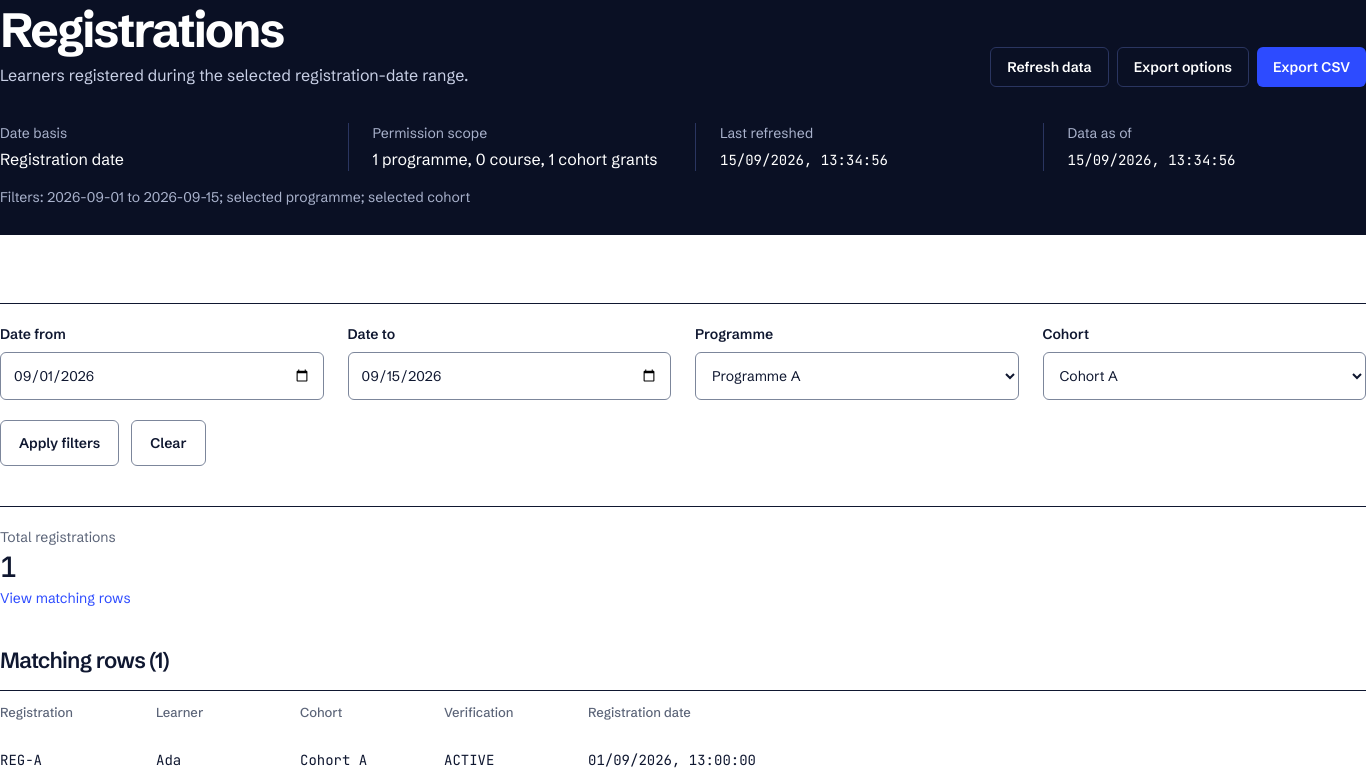
Scenario: ReportDashboard › retains sensitive selections and reason on failed queue requests
Step 1. Click the button "Export options" → (1183, 67), box [1117, 47, 1249, 87]
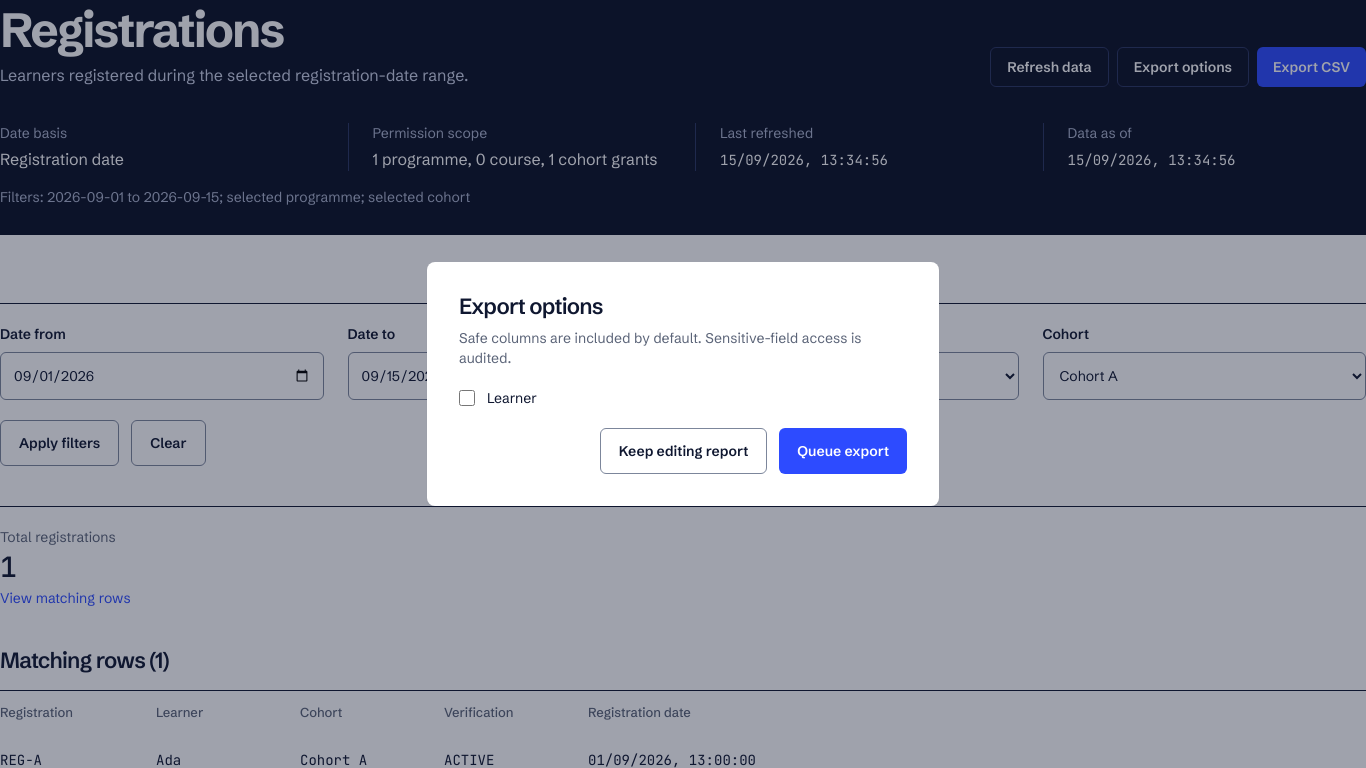
Step 2. Click the checkbox labelled "Learner" → (467, 398), box [459, 390, 475, 406]
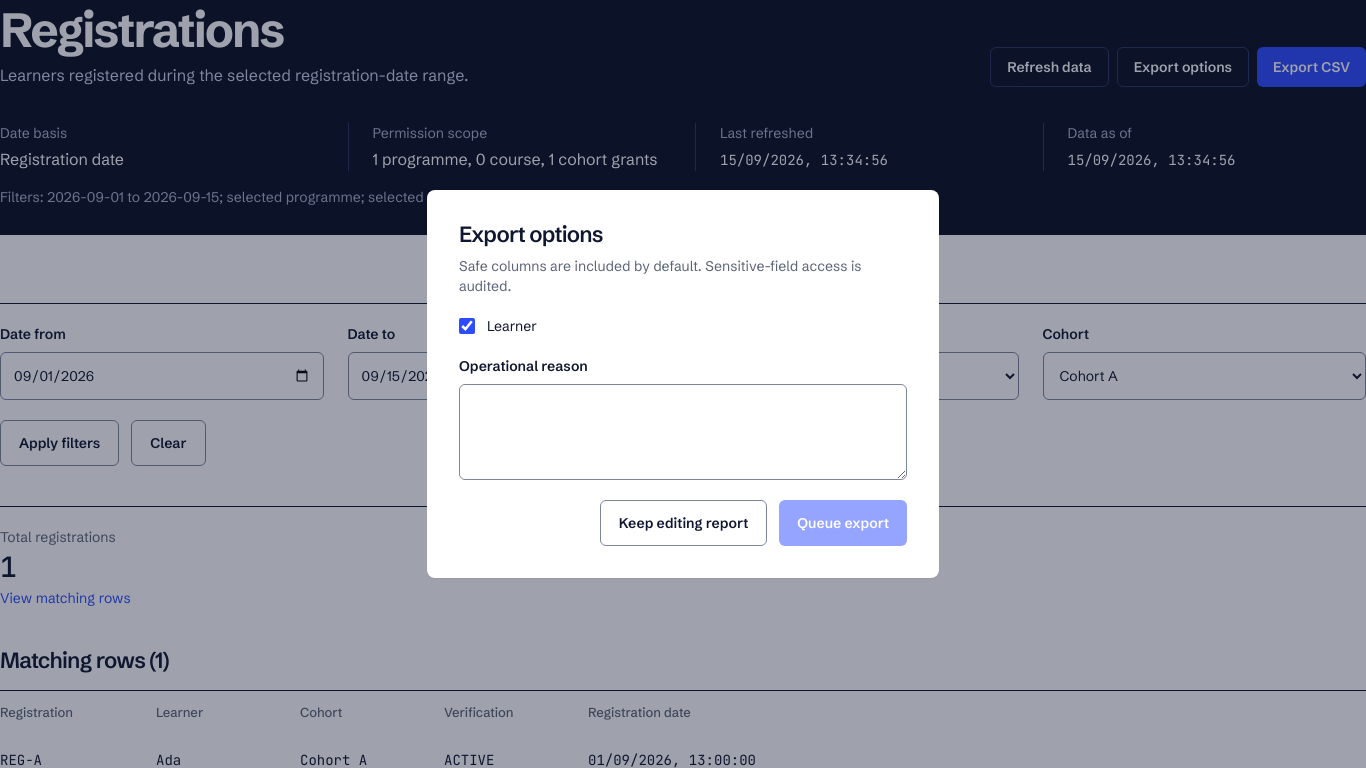
Step 3. Type "Case review" into the text box labelled "Operational reason" → (683, 432), box [459, 384, 907, 480]
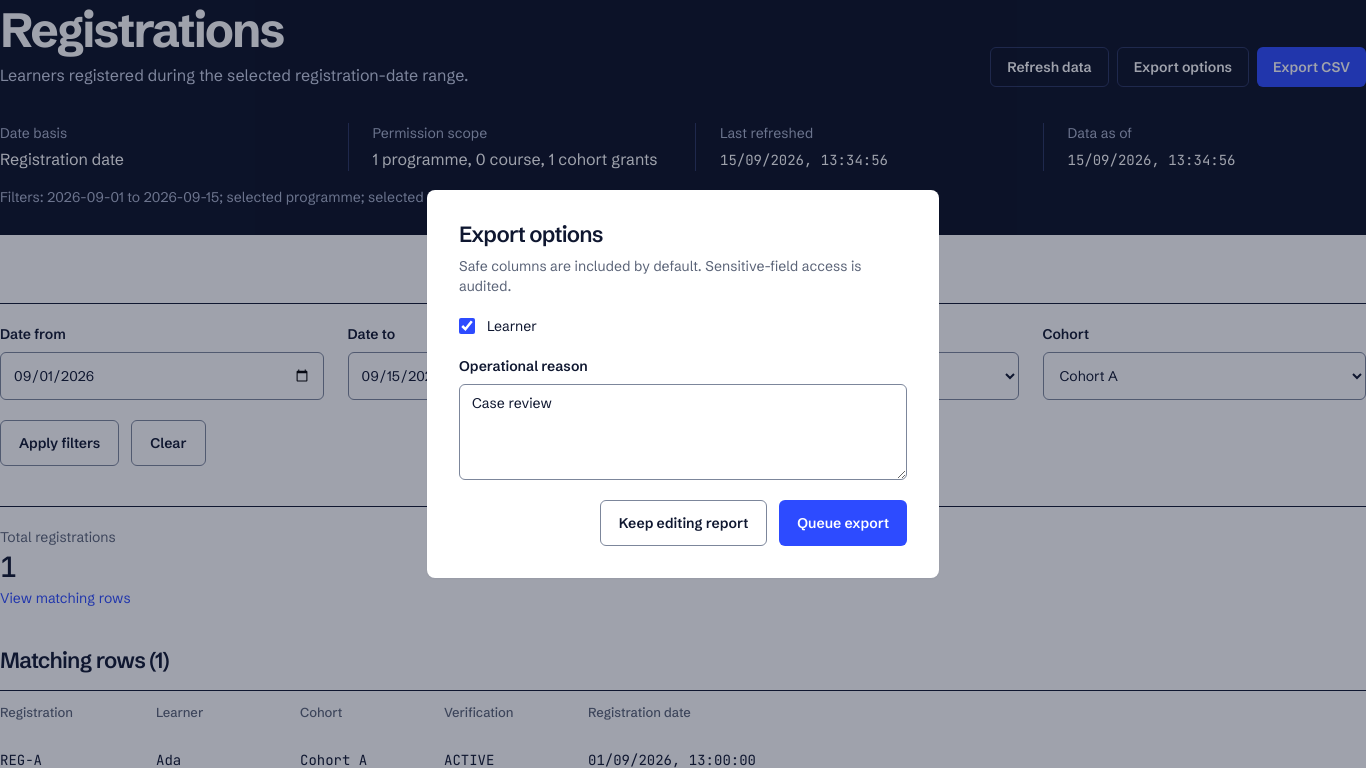
Step 4. Click the button "Queue export" → (843, 523), box [779, 500, 907, 546]
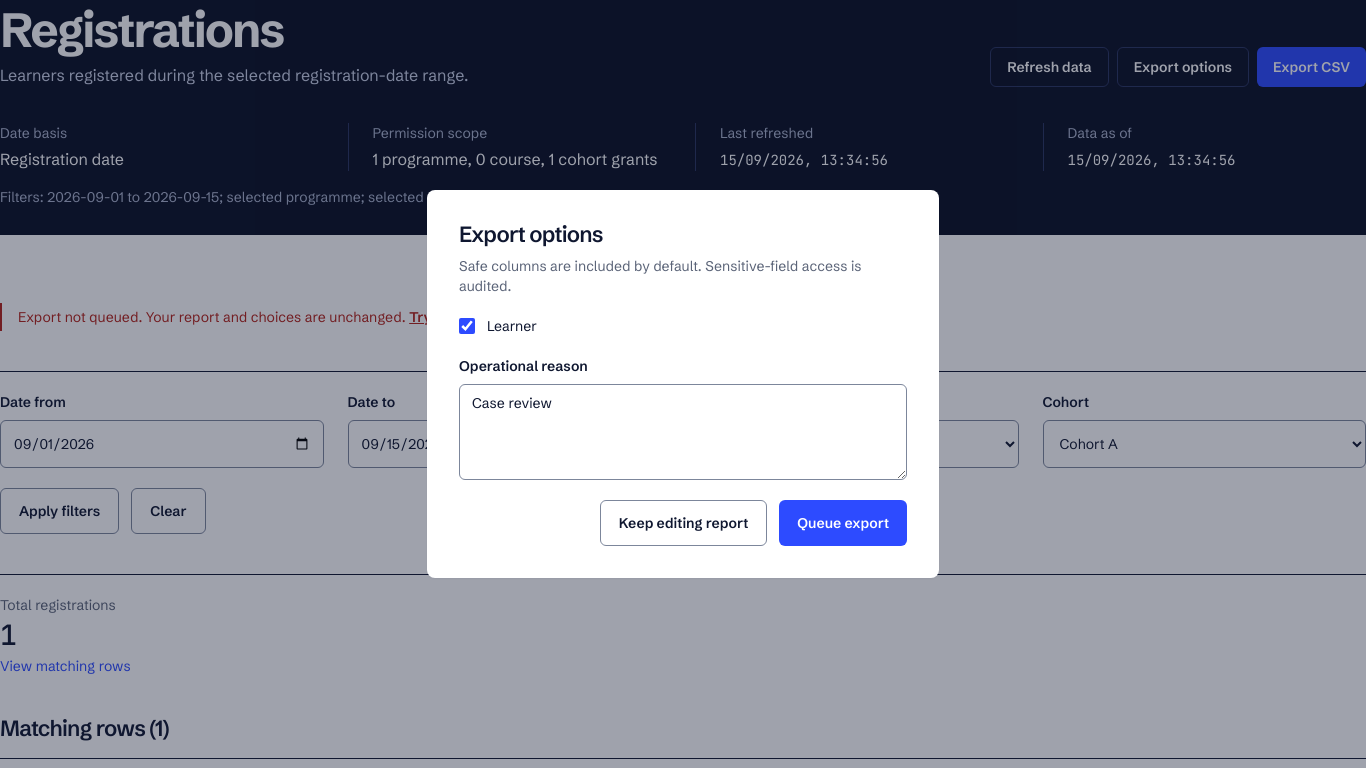
Check: the message shows "Export not queued", box [18, 308, 409, 326]
